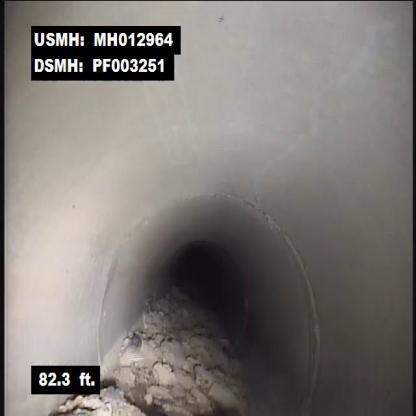crack: (247, 24, 382, 196)
debris: (100, 283, 260, 416)
